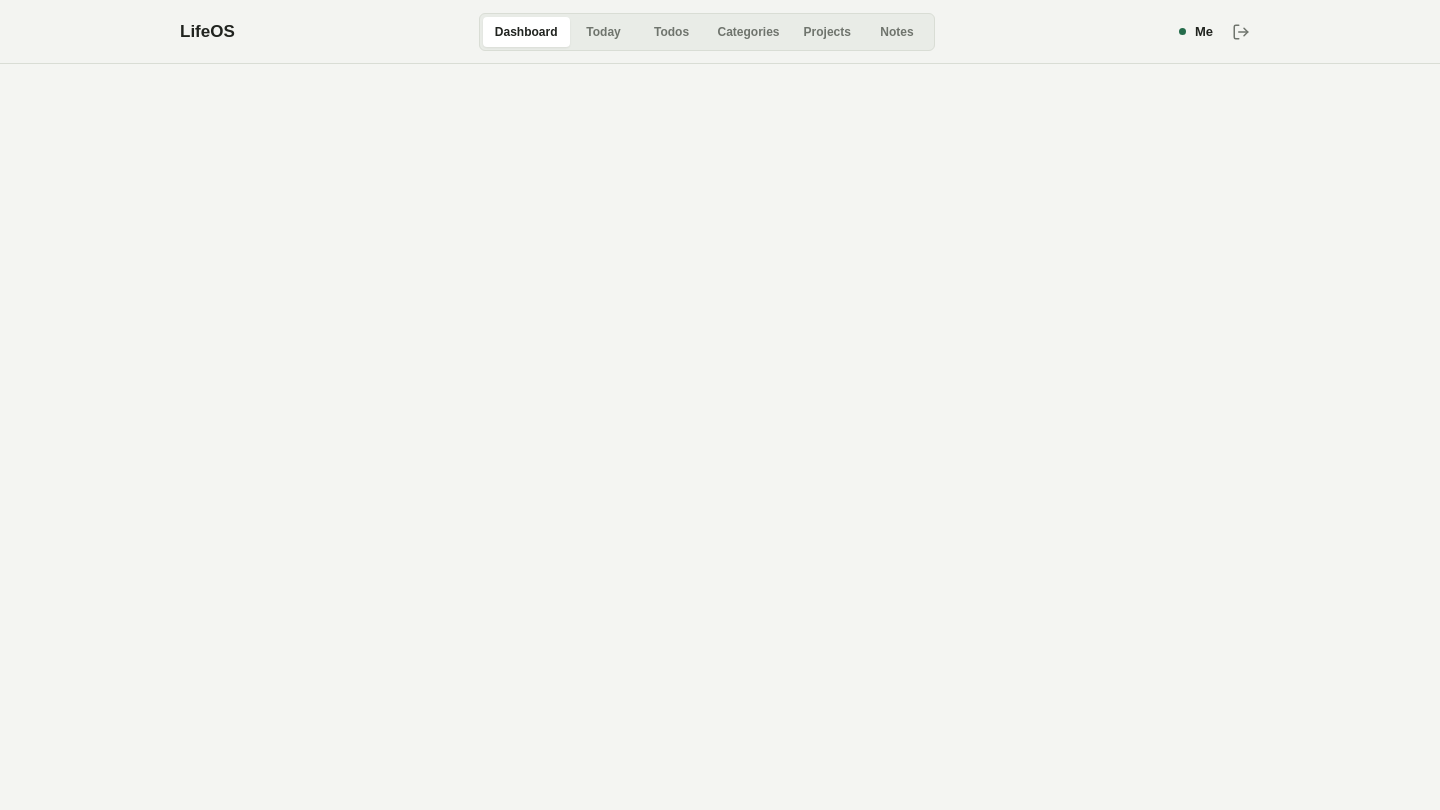
Test: retries a failed save with the same idempotency key
Click the button "Projects" at (827, 32), box [792, 16, 863, 46]
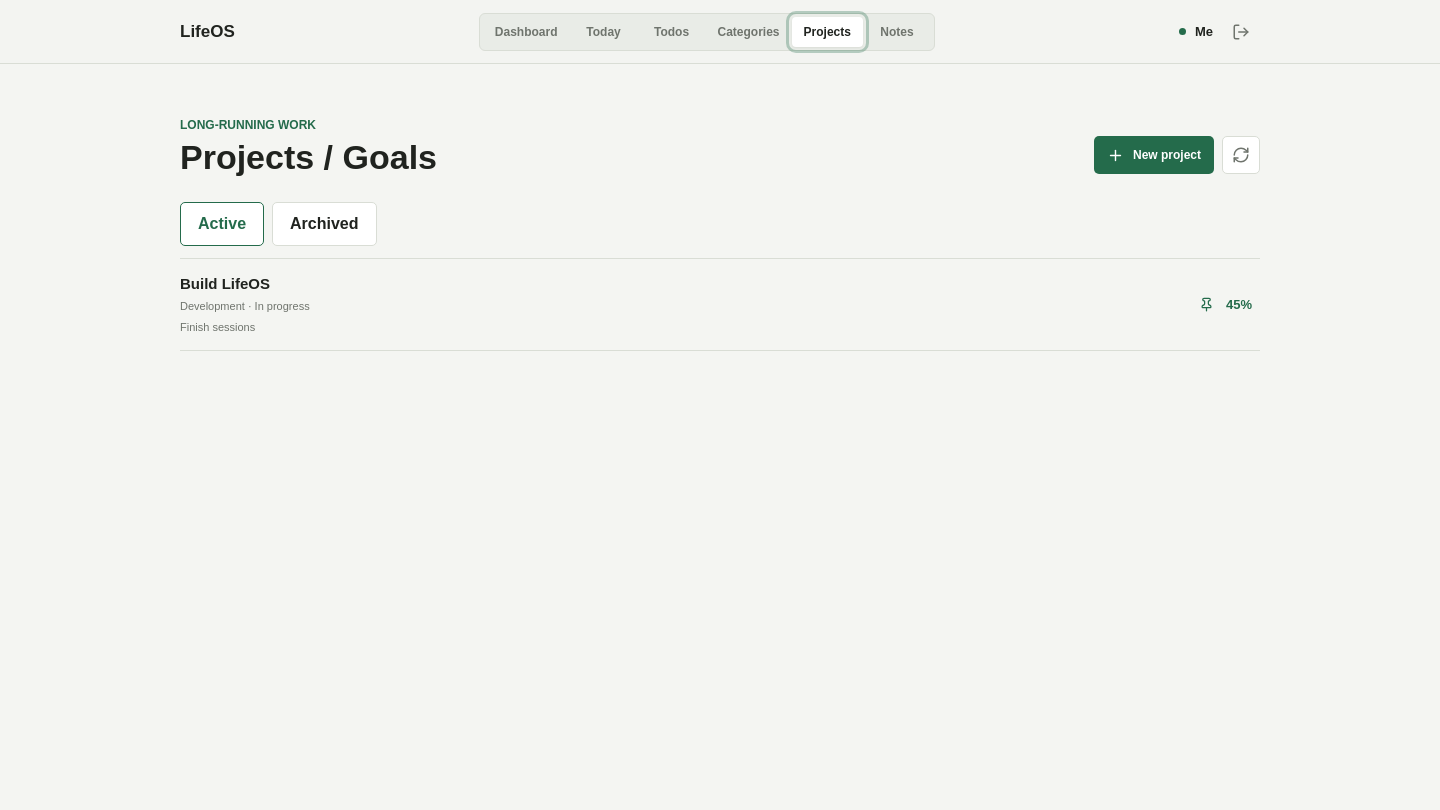
Click the button "Build LifeOS Development · In progress Finish sessions 45%" at (225, 284), box [180, 259, 1260, 351]
(page scrolled)
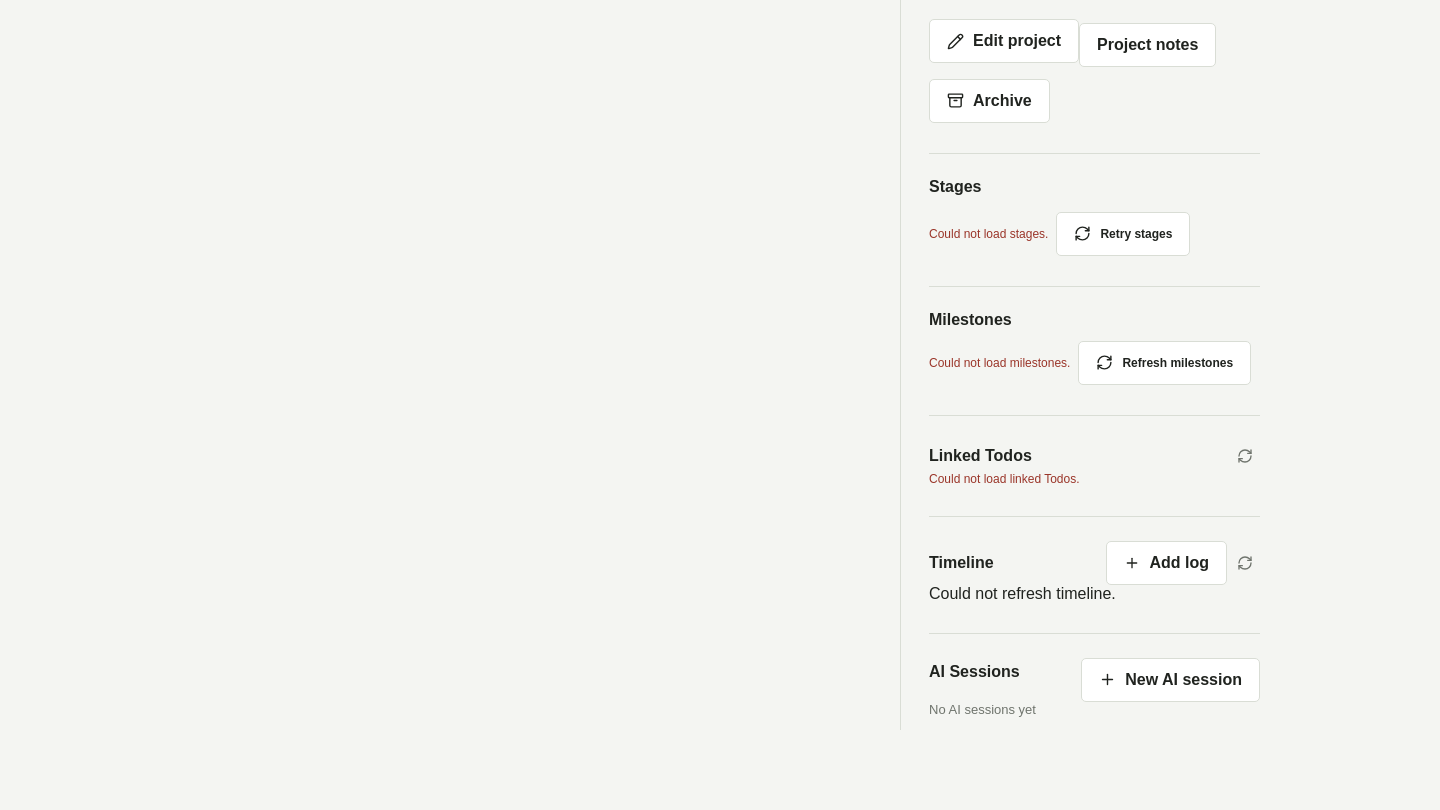
Click the button "New AI session" at (1171, 680), box [1081, 658, 1260, 702]
(page scrolled)
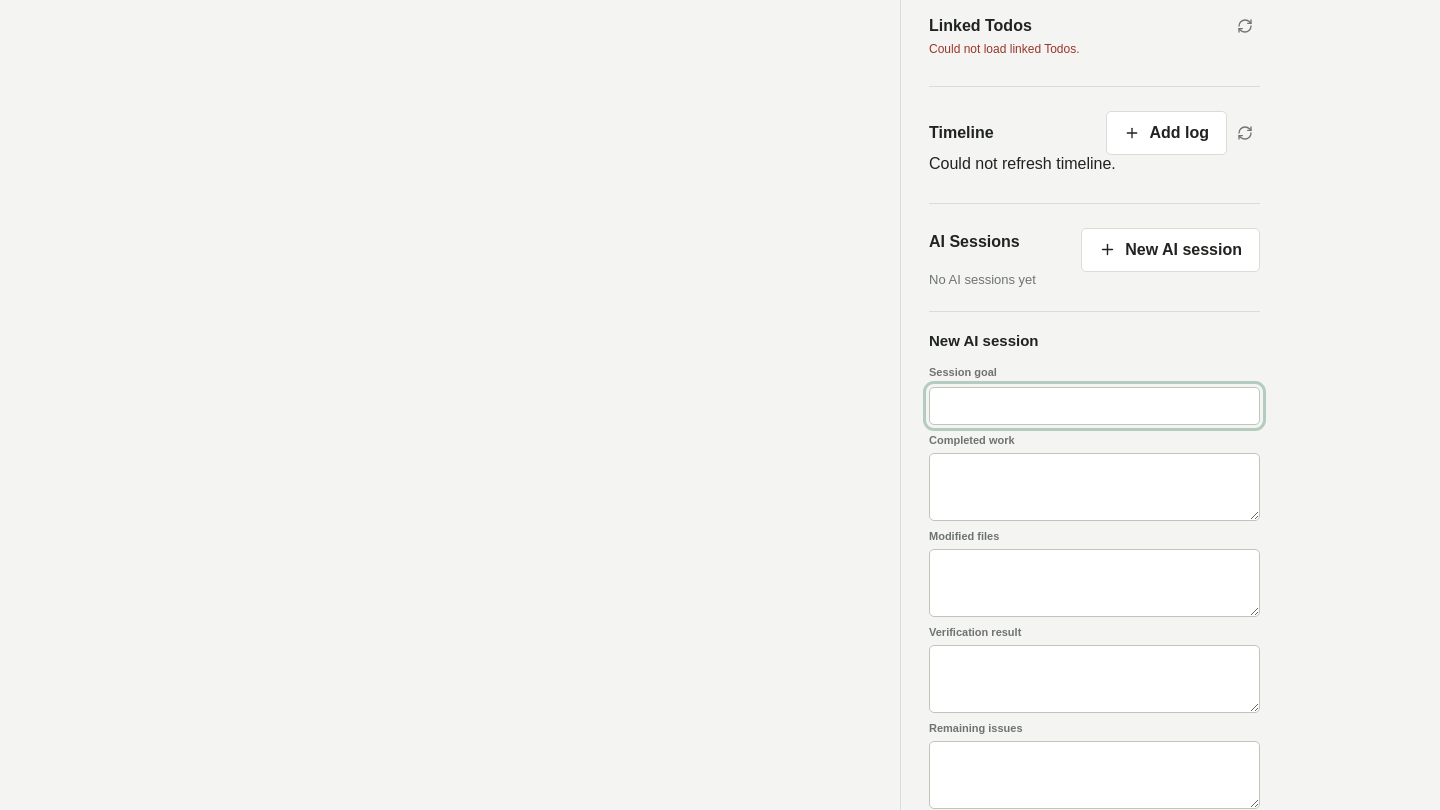
Type "Record progress" into the field labelled "Session goal" at (1094, 406), box [929, 387, 1260, 425]
(page scrolled)
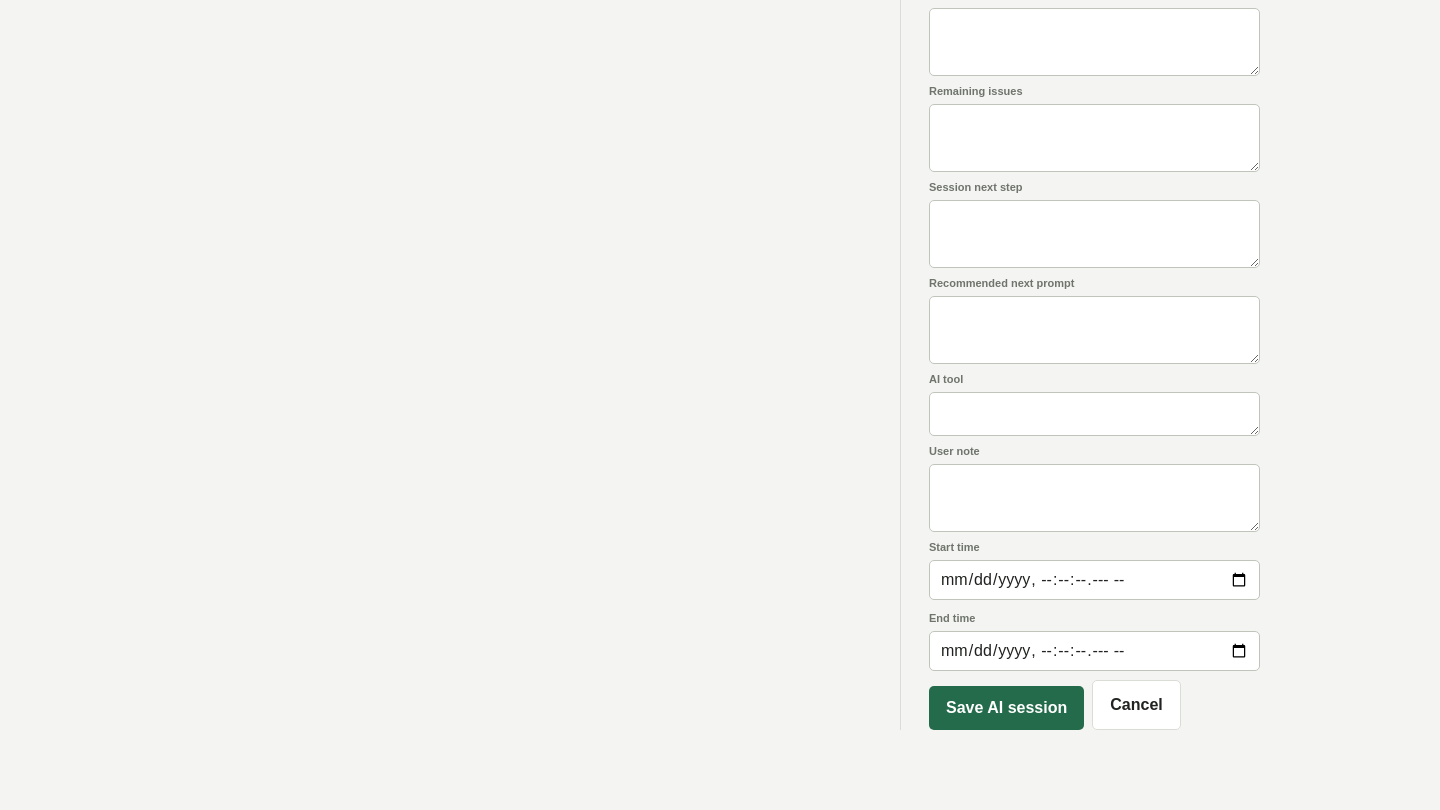
Click the button "Save AI session" at (1007, 708), box [929, 686, 1084, 730]
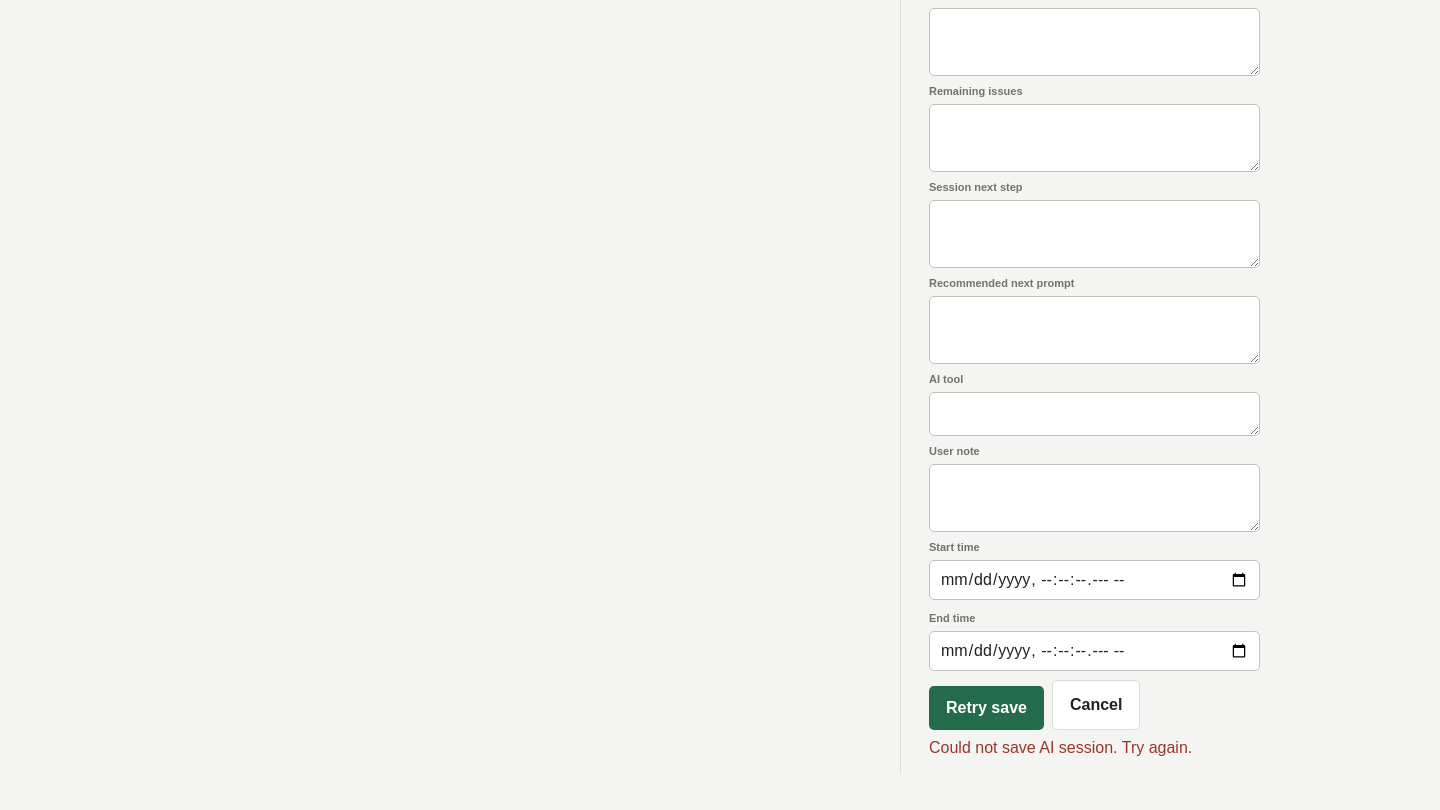
expect the text "Could not save AI session. Try again." is shown: met, box [929, 739, 1192, 756]
Click the button "Retry save" at (986, 708), box [929, 686, 1044, 730]
(page scrolled)
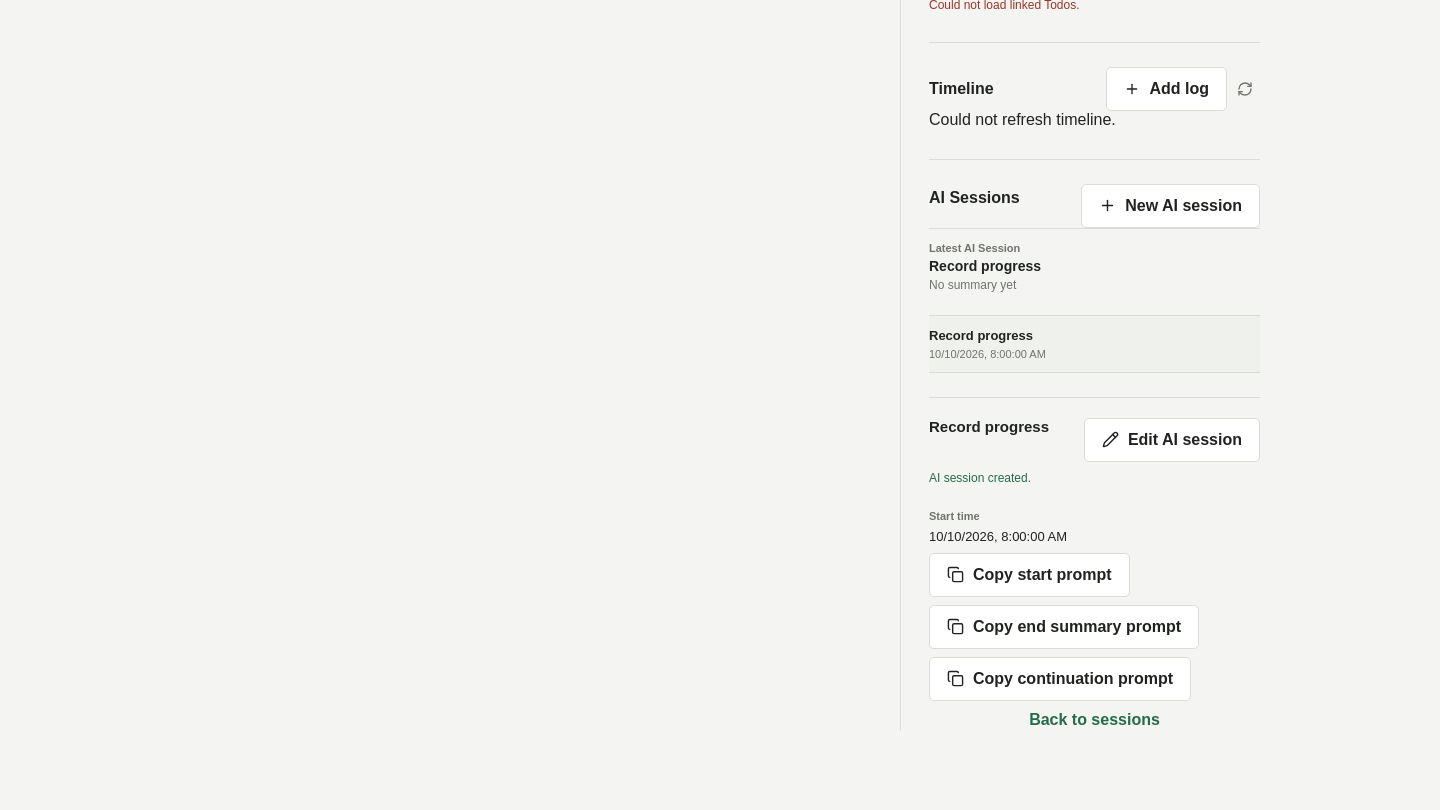
expect the text "AI session created." is shown: met, box [929, 471, 1031, 485]
